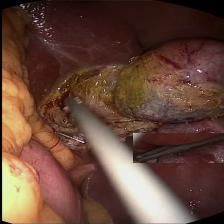Grasper: (132, 133, 224, 163)
Irrigator: (54, 92, 96, 120)
